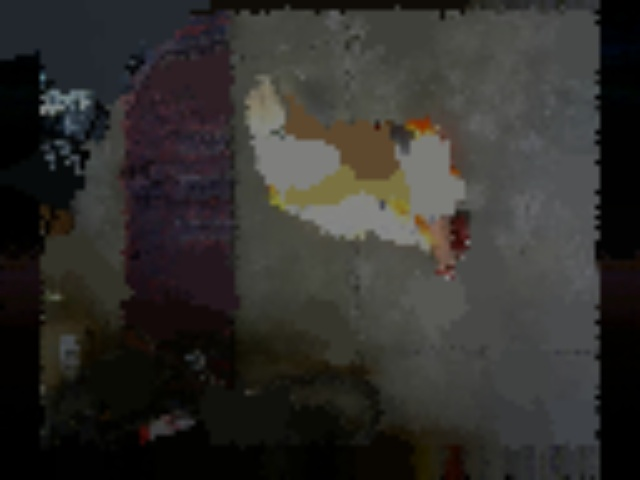three: (265, 130, 305, 166)
